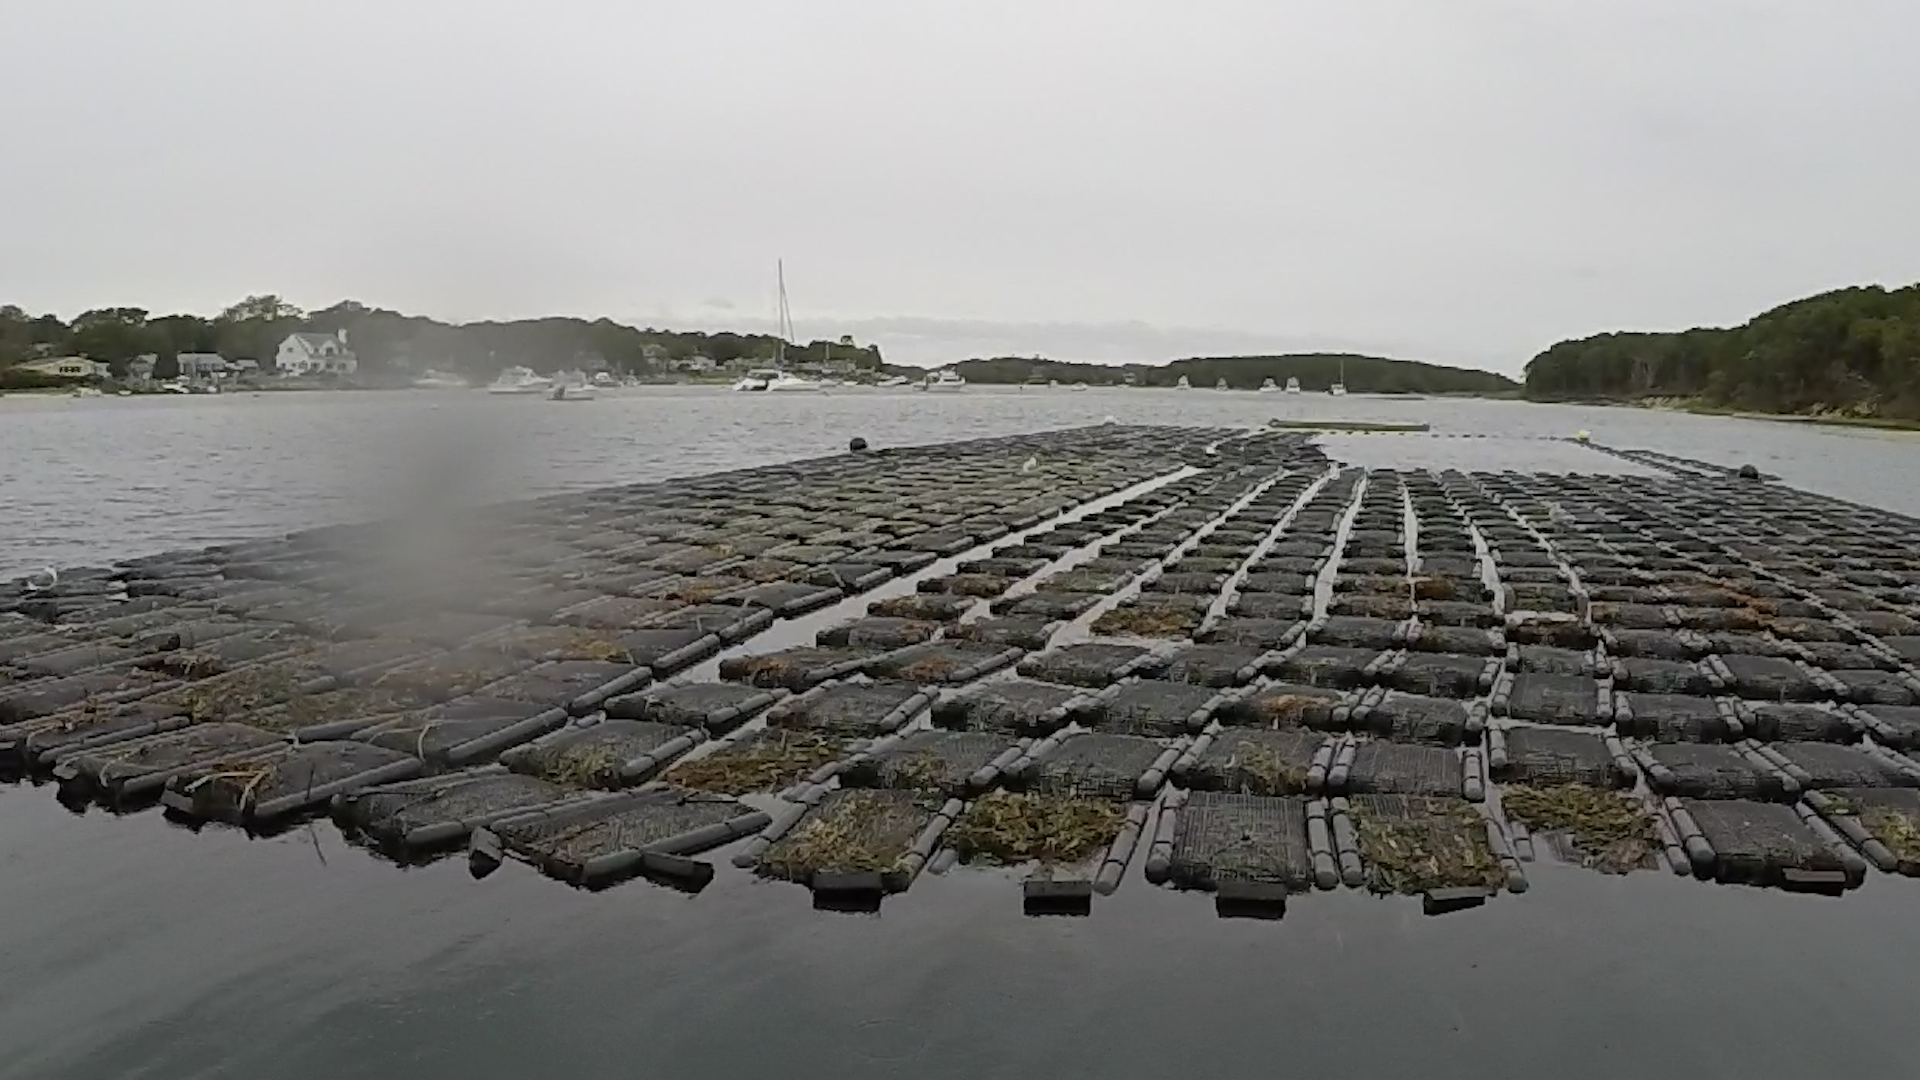bag: (932, 787, 1151, 899), (1135, 782, 1337, 893), (1662, 783, 1867, 890), (1333, 789, 1528, 897), (1501, 782, 1697, 886), (742, 787, 959, 881), (1176, 724, 1341, 790), (1006, 728, 1180, 783), (1331, 733, 1478, 794), (1490, 728, 1621, 785)
